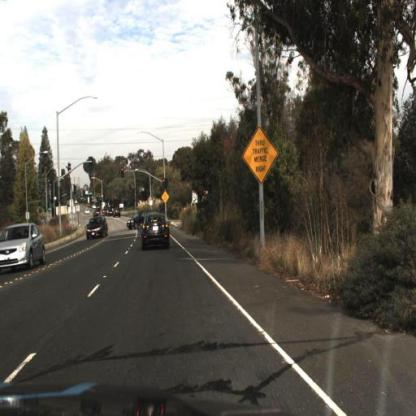car: (1, 215, 52, 278), (142, 213, 170, 250), (83, 212, 112, 245), (87, 217, 109, 240), (126, 212, 145, 235)
trafficLight-Red: (119, 161, 127, 184), (160, 173, 168, 191)
